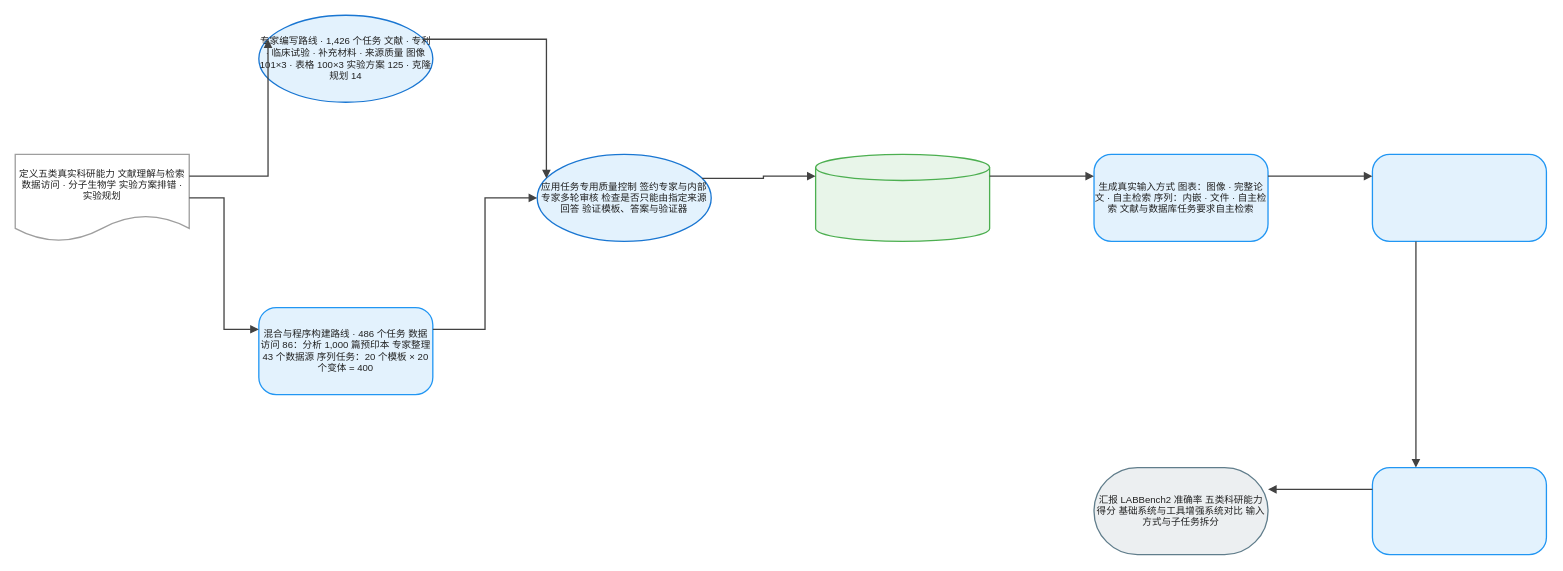
Some shapes in this 1563 by 571 pixel diagram are drawn without their labels. The centre of each missing label's shape, as x and y in pixels:
"应用任务专用验证 开放答案与来源一致性评分器 序列任务的计算机模拟验证器 解析克隆领域语言并端到端验证" goes at (1459,511).
"汇总 LABBench2 · 1,912 个任务 开放式科研问题 科学论文 · 图像 · 数据文件 来源、标准答案与评分器元数据" goes at (902,197).
"评测基础与工具增强系统 首先在无工具条件运行 再提供网络搜索与代码执行 传递文件和检索到的上下文" goes at (1459,197).
